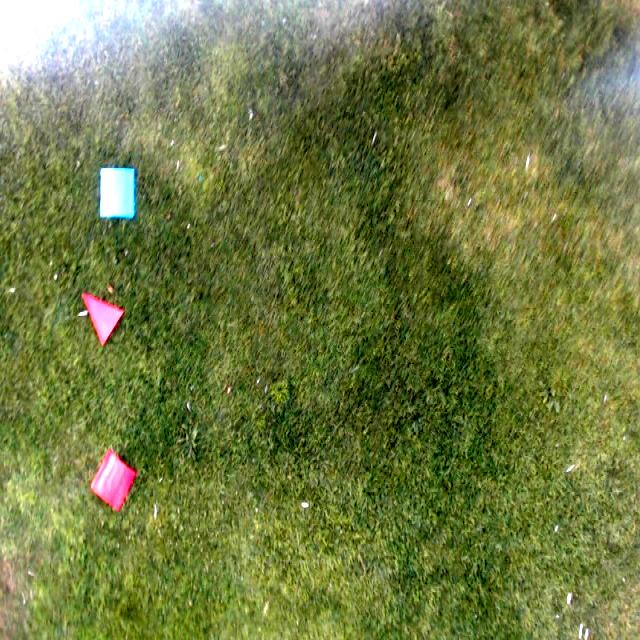blue_square: (100, 169, 135, 216)
red_square: (91, 451, 133, 509)
red_triangle: (84, 292, 124, 344)
